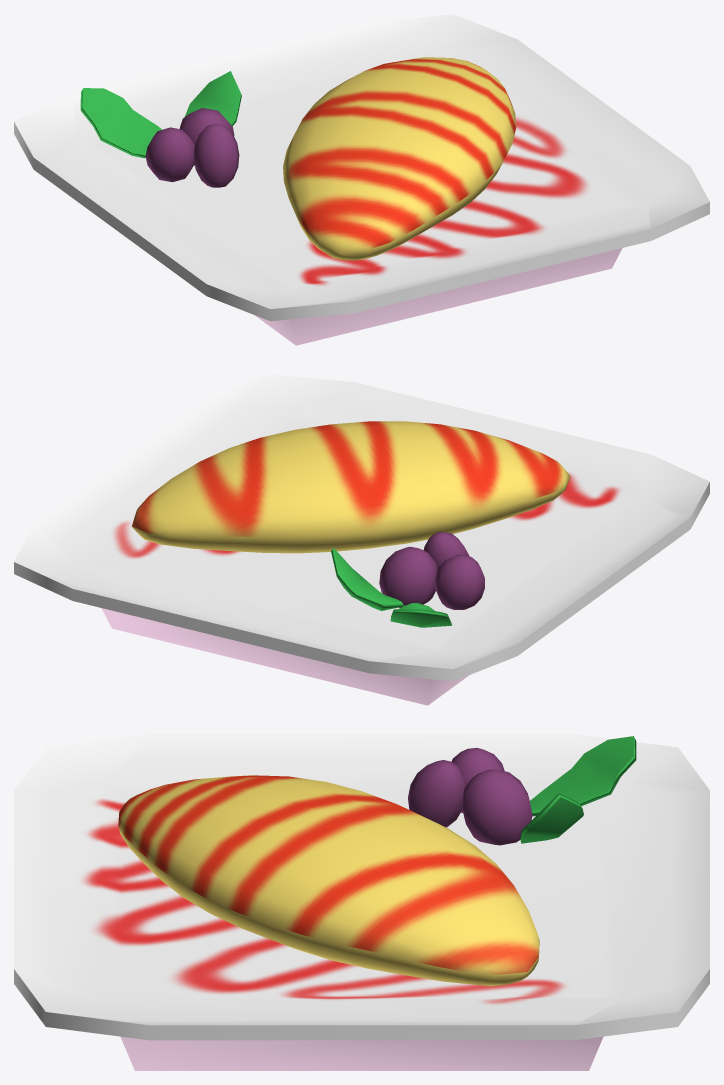
Rendered from Omurice.fbx.
3 views of the same model, one above another, from view 1: azimuth 30°, elevation 25°; view 2: azimuth 150°, elevation 25°; view 3: azimuth 270°, elevation 25° (orthographic). The views are drawn at different scales.
Visible parts, largest first — view 1: polySurface17; view 2: polySurface17; view 3: polySurface17.
Part boxes in pixels (<box>): polySurface17: <box>14,14,709,345</box>; polySurface17: <box>14,374,709,705</box>; polySurface17: <box>14,734,709,1070</box>.
Bounding box in the file's own units: 6.26 × 1.75 × 6.32.
